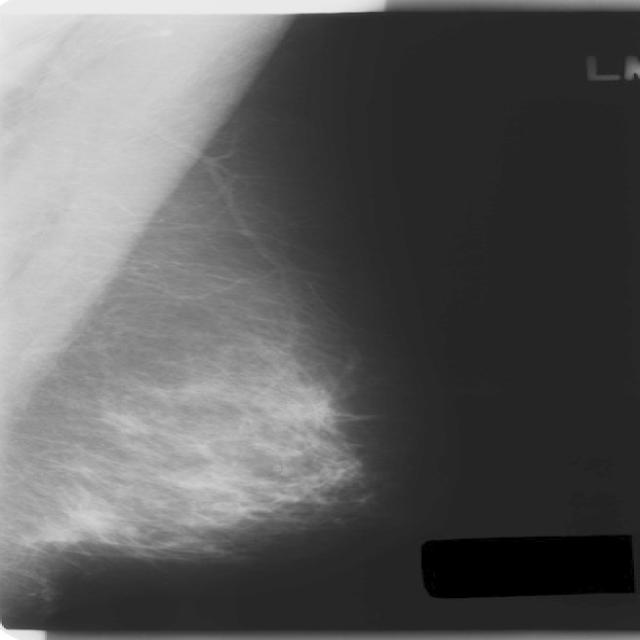tumour: (22, 502, 115, 547)
